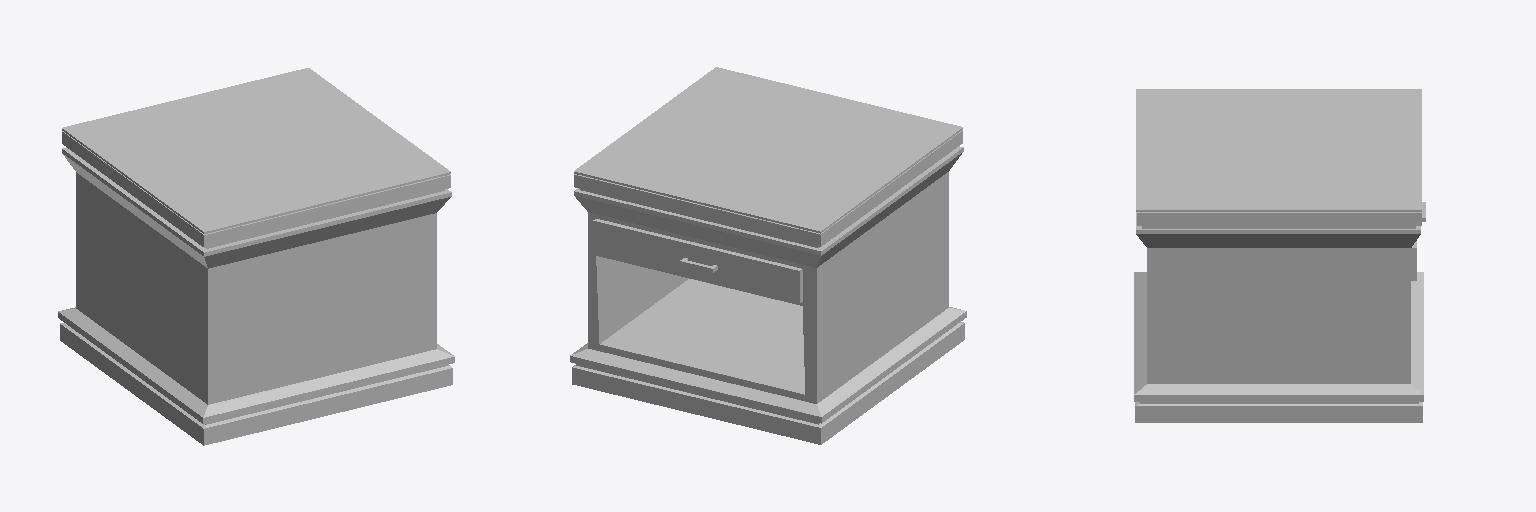
File: corner_table.obj
The picture shows the model from 3 angles: view 1: azimuth 30°, elevation 25°; view 2: azimuth 150°, elevation 25°; view 3: azimuth 270°, elevation 25°; orthographic projection.
Bounding box in the file's own units: 2.48 × 2 × 2.49.